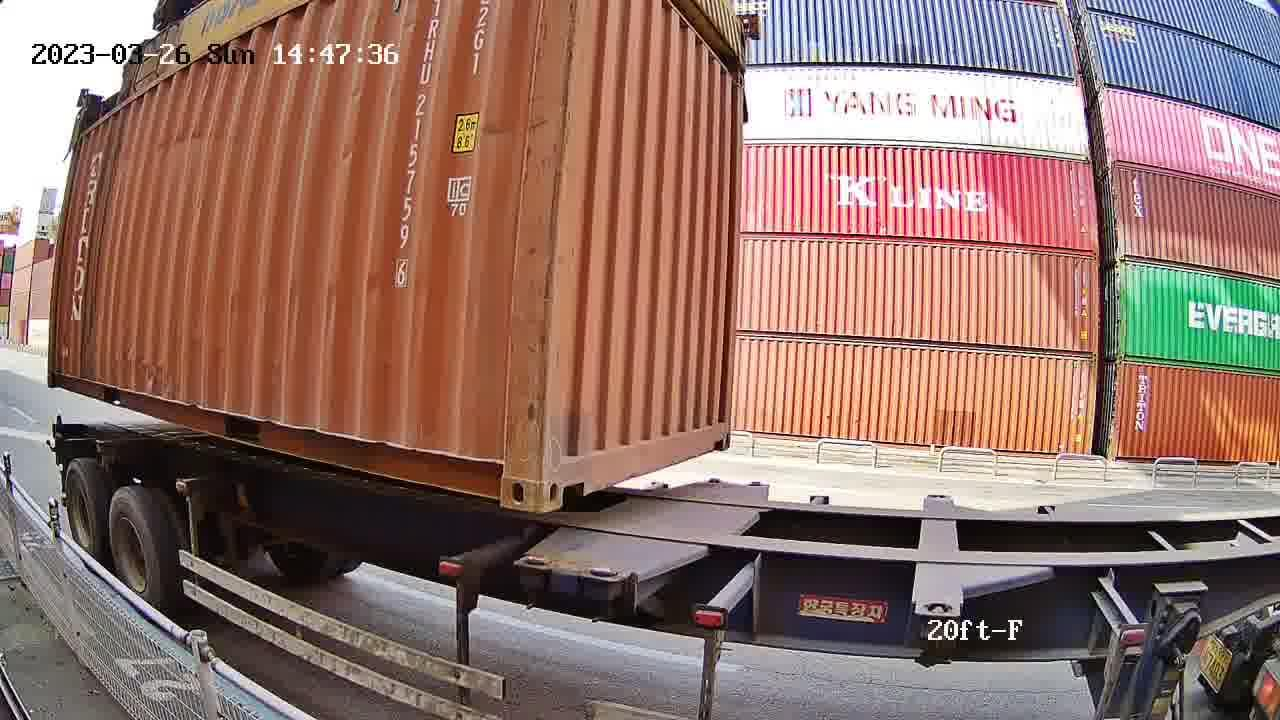Chassis: (518, 477, 726, 569), (585, 484, 768, 584)
Cone: (511, 554, 553, 616), (583, 566, 624, 629)
Hole_L: (536, 436, 590, 512)
Hole_R: (466, 436, 541, 514), (710, 409, 733, 450)
Tire: (108, 489, 162, 604), (63, 461, 102, 570)
